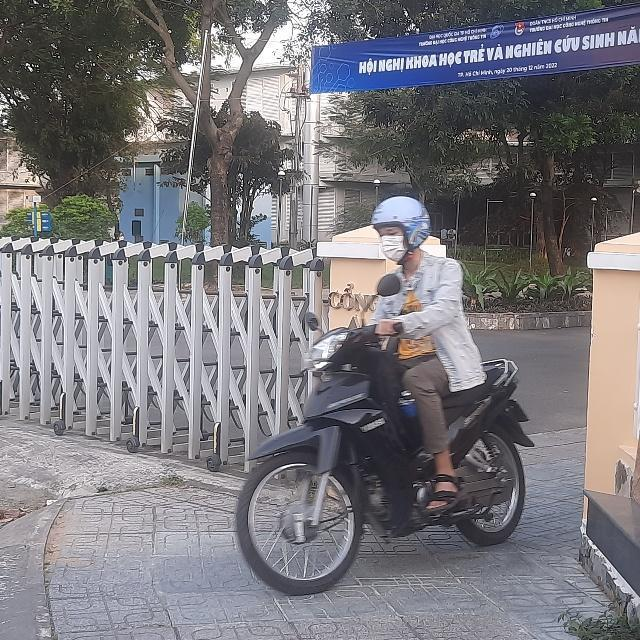Helmet: (370, 193, 430, 263)
